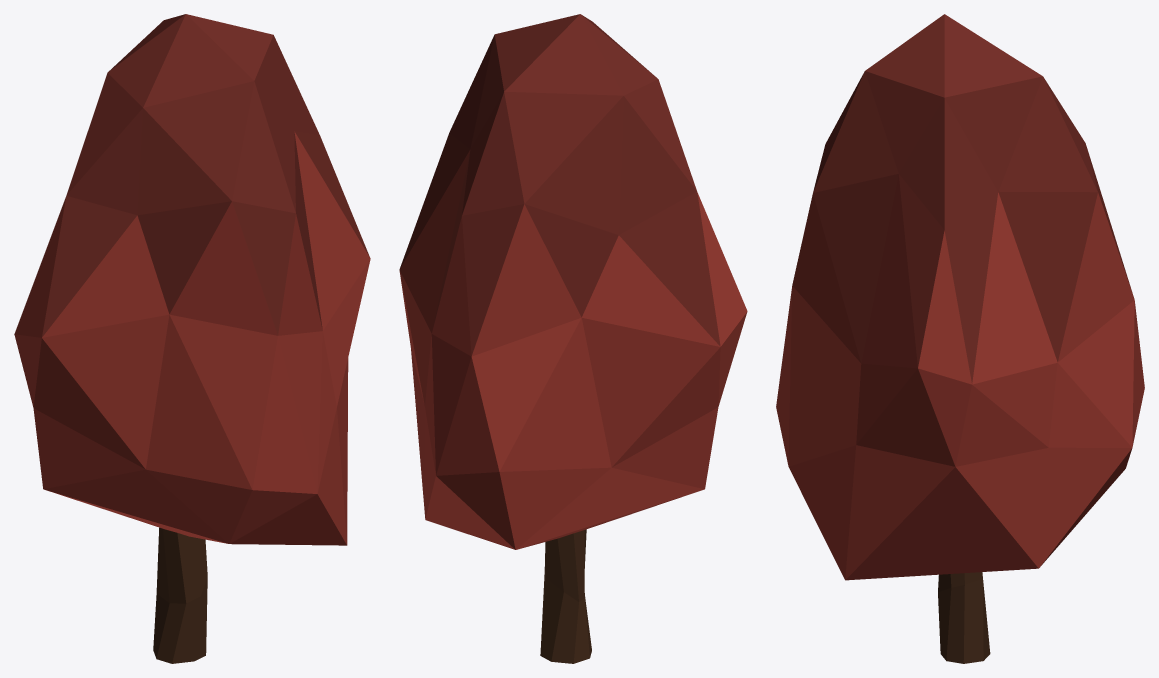
Rendered from Tree_59_Red.fbx.
3 renders of one model, left to right at view 1: azimuth 30°, elevation 25°; view 2: azimuth 150°, elevation 25°; view 3: azimuth 270°, elevation 25°, orthographic. The views are drawn at different scales.
Parts seen in each view (by area): view 1: Tree_59_Red_Part_1, Tree_59_Red_Part_2; view 2: Tree_59_Red_Part_1, Tree_59_Red_Part_2; view 3: Tree_59_Red_Part_1, Tree_59_Red_Part_2.
Boxes of the visible parts, bbox=[...] form: Tree_59_Red_Part_1: bbox=[14, 14, 370, 545]; Tree_59_Red_Part_2: bbox=[153, 527, 207, 663]; Tree_59_Red_Part_1: bbox=[399, 14, 747, 549]; Tree_59_Red_Part_2: bbox=[540, 529, 591, 663]; Tree_59_Red_Part_1: bbox=[776, 14, 1144, 580]; Tree_59_Red_Part_2: bbox=[938, 572, 990, 663].
Bounding box in the file's own units: 425 × 800 × 420.
